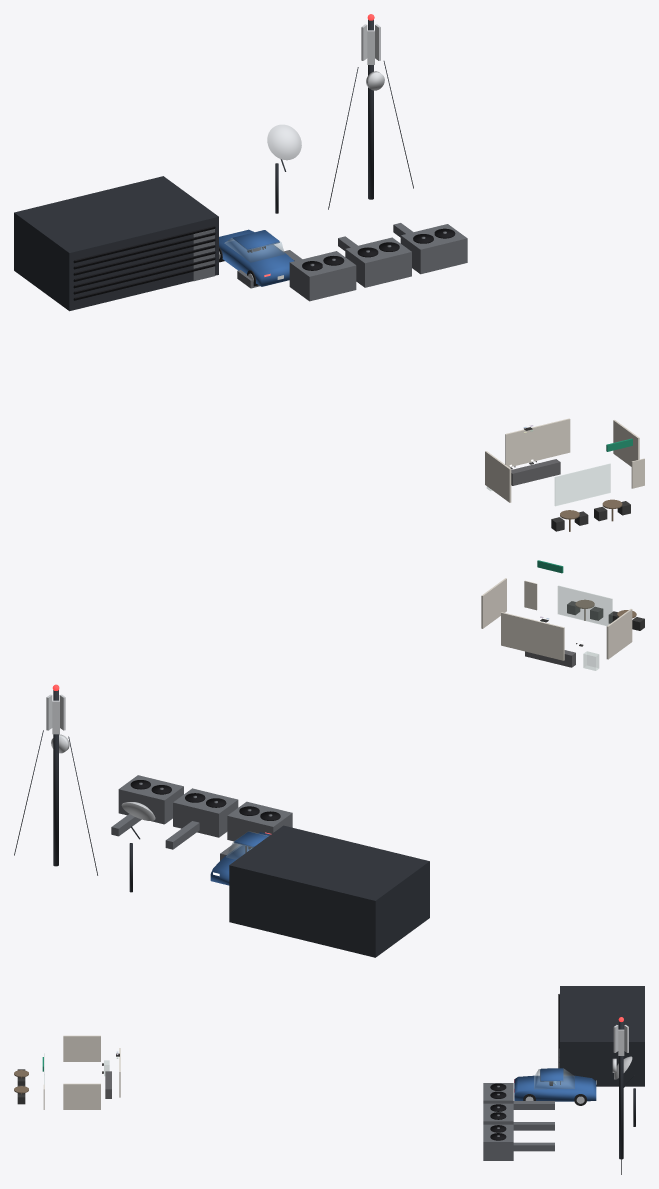
The model's file is cortek-gear.glb.
3 views of the same model, one above another, from view 1: azimuth 30°, elevation 25°; view 2: azimuth 150°, elevation 25°; view 3: azimuth 270°, elevation 25° (orthographic). The views are drawn at different scales.
Parts seen in each view (by area): view 1: RoofPenthouse, RoofHVAC0, Starbucks_BackWall, CarBody, RoofHVAC2, RoofHVAC1, Starbucks_Storefront, RoofDish, Starbucks_SideWallL, Starbucks_Counter, RoofMast, RoofDoor (+2 smaller); view 2: RoofPenthouse, Starbucks_BackWall, RoofHVAC1, RoofHVAC2, Starbucks_Storefront, RoofHVAC0, Starbucks_SideWallL, Starbucks_SideWallR, RoofMast, CarBody; view 3: RoofPenthouse, CarBody, Starbucks_SideWallL, Starbucks_SideWallR, RoofHVAC2, RoofMast, RoofHVAC1, CarCabin, RoofHVAC0, RoofDuct2, RoofDuct0, RoofDuct1 (+1 smaller).
Part boxes in pixels (bbox=[...]): RoofPenthouse: bbox=[14, 176, 218, 311]; RoofHVAC0: bbox=[289, 251, 356, 301]; Starbucks_BackWall: bbox=[505, 418, 570, 467]; CarBody: bbox=[219, 229, 294, 286]; RoofHVAC2: bbox=[400, 224, 467, 274]; RoofHVAC1: bbox=[345, 237, 411, 287]; Starbucks_Storefront: bbox=[555, 464, 610, 505]; RoofDish: bbox=[267, 124, 301, 160]; Starbucks_SideWallL: bbox=[485, 451, 511, 502]; Starbucks_Counter: bbox=[511, 459, 560, 485]; RoofMast: bbox=[368, 19, 373, 199]; RoofDoor: bbox=[193, 229, 214, 281]; RoofPenthouse: bbox=[229, 825, 429, 957]; Starbucks_BackWall: bbox=[501, 612, 564, 660]; RoofHVAC1: bbox=[173, 788, 238, 837]; RoofHVAC2: bbox=[118, 775, 183, 824]; Starbucks_Storefront: bbox=[558, 586, 612, 625]; RoofHVAC0: bbox=[227, 801, 292, 841]; Starbucks_SideWallL: bbox=[606, 609, 632, 659]; Starbucks_SideWallR: bbox=[481, 578, 506, 628]; RoofMast: bbox=[53, 690, 58, 866]; CarBody: bbox=[210, 832, 270, 885]; RoofPenthouse: bbox=[560, 986, 644, 1086]; CarBody: bbox=[514, 1075, 596, 1101]; Starbucks_SideWallL: bbox=[63, 1035, 100, 1061]; Starbucks_SideWallR: bbox=[63, 1083, 100, 1109]; RoofHVAC2: bbox=[483, 1124, 513, 1160]; RoofMast: bbox=[619, 1021, 623, 1159]; RoofHVAC1: bbox=[483, 1103, 513, 1124]; CarCabin: bbox=[534, 1068, 574, 1088]; RoofHVAC0: bbox=[483, 1083, 513, 1103]; RoofDuct2: bbox=[513, 1142, 554, 1151]; RoofDuct0: bbox=[513, 1101, 554, 1109]; RoofDuct1: bbox=[513, 1122, 554, 1130].
Bounding box in the file's own units: 18.01 × 8.33 × 33.35.
